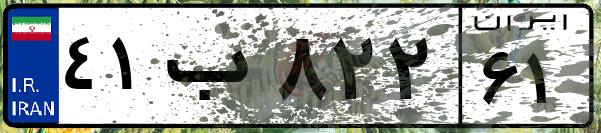1: (525, 38, 570, 115), (110, 28, 158, 98)
2: (385, 28, 445, 110), (330, 28, 385, 110)
4: (57, 26, 110, 100)
6: (475, 38, 525, 113)
8: (270, 28, 330, 110)
ب: (158, 20, 270, 120)
